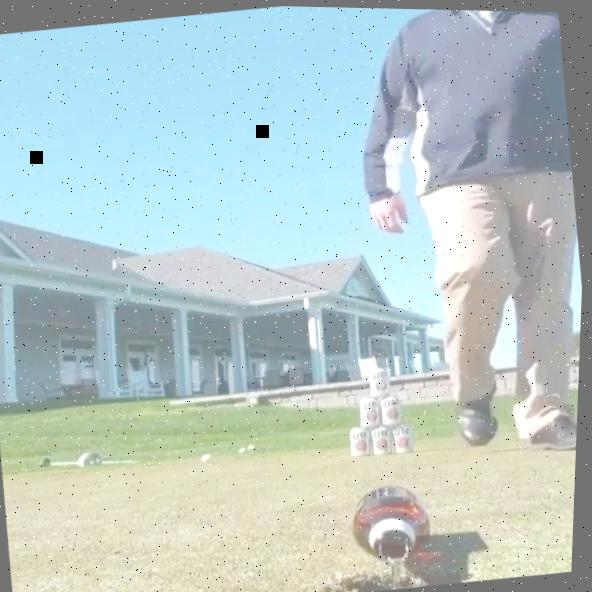GolfBall: (240, 445, 249, 453), (204, 452, 214, 459), (250, 443, 258, 449)
